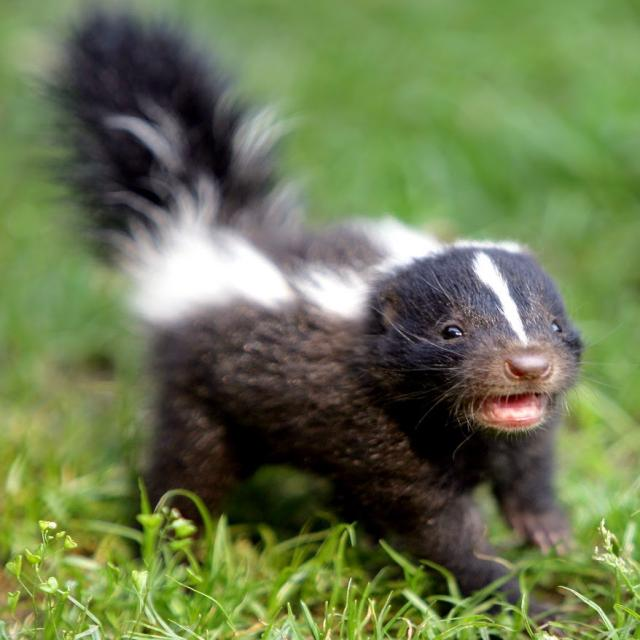Skunk: (7, 0, 613, 609)
